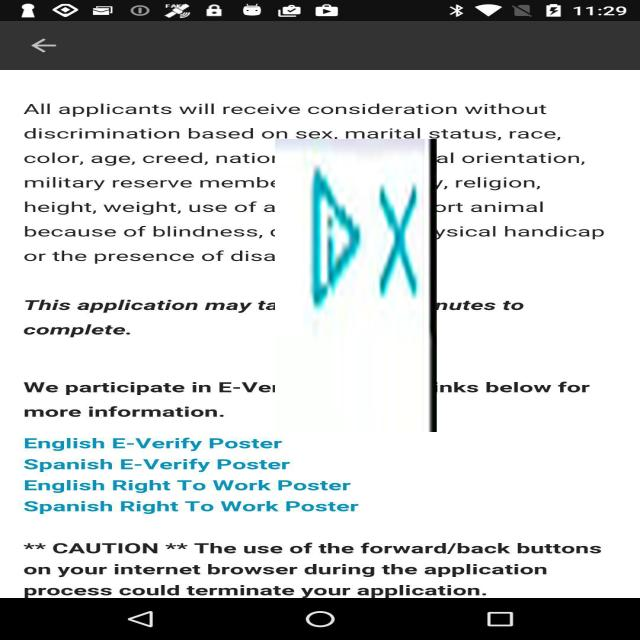sneaking: (275, 139, 437, 432)
